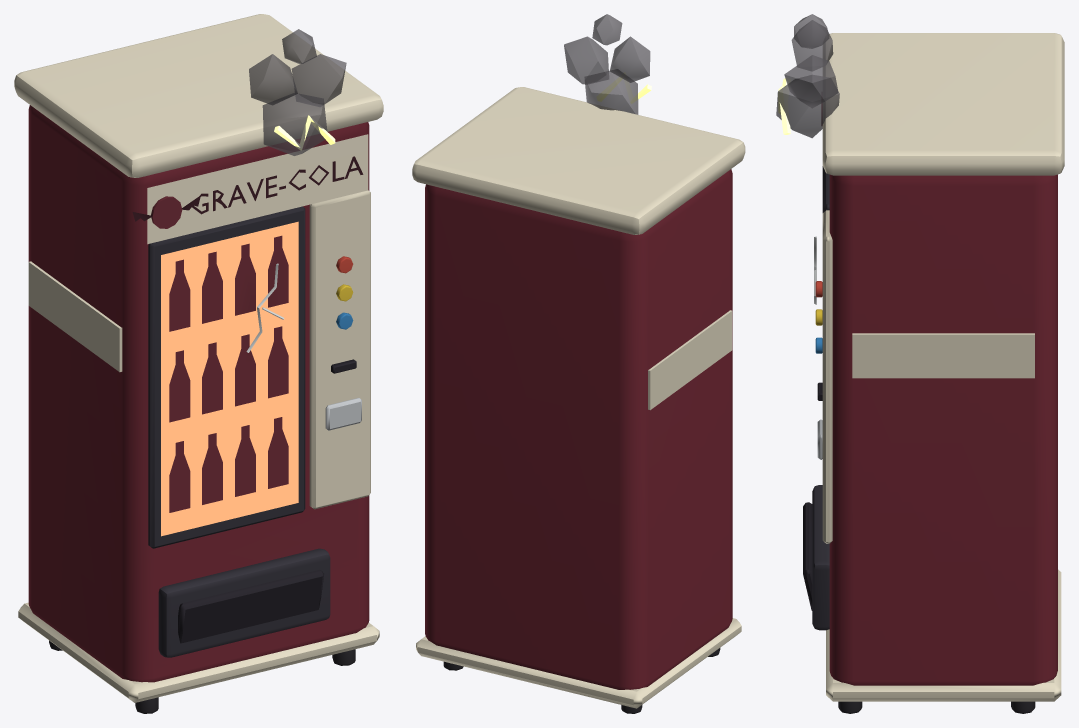
Rendered from vending_gravecola.glb.
3 views of the same model, side by side, from view 1: azimuth 30°, elevation 25°; view 2: azimuth 150°, elevation 25°; view 3: azimuth 270°, elevation 25° (orthographic). The views are drawn at different scales.
Visible parts, largest first — view 1: vending_gravecola, screen, brand_decal, broken; view 2: vending_gravecola, broken; view 3: vending_gravecola, broken.
Boxes of the visible parts, left/top/right/bottom form: vending_gravecola: left=14, top=14, right=383, bottom=713; screen: left=161, top=221, right=298, bottom=536; brand_decal: left=132, top=134, right=368, bottom=244; broken: left=249, top=29, right=346, bottom=155; vending_gravecola: left=412, top=87, right=745, bottom=713; broken: left=564, top=14, right=651, bottom=114; vending_gravecola: left=803, top=33, right=1064, bottom=713; broken: left=776, top=14, right=839, bottom=138.
Size of the model in its own units: 0.86 by 2.12 by 0.8343.
